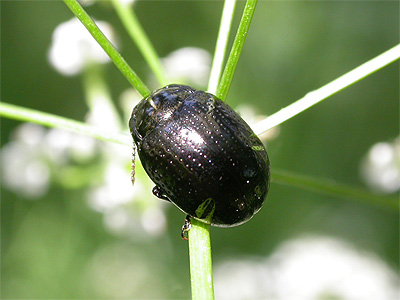Chrysolina_oricalcia: (126, 82, 272, 237)
